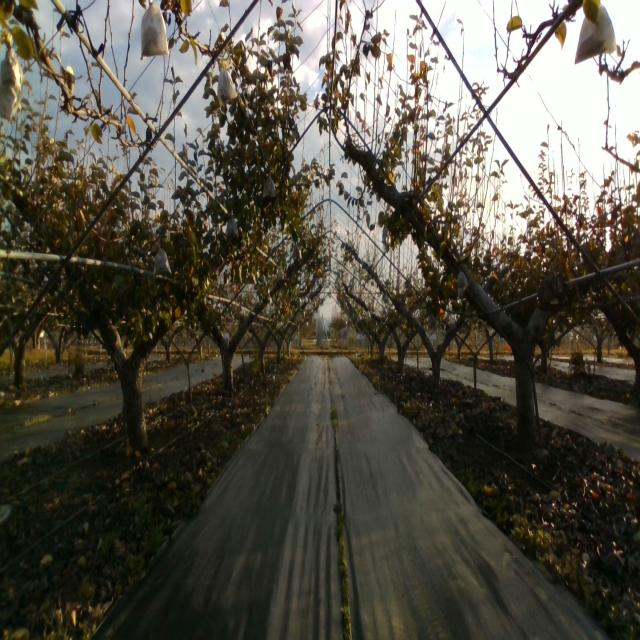pearbags: (574, 6, 616, 64), (0, 34, 24, 121), (140, 0, 169, 61), (217, 58, 238, 105), (153, 248, 172, 276), (225, 210, 239, 241), (262, 171, 276, 198), (456, 271, 469, 297)
